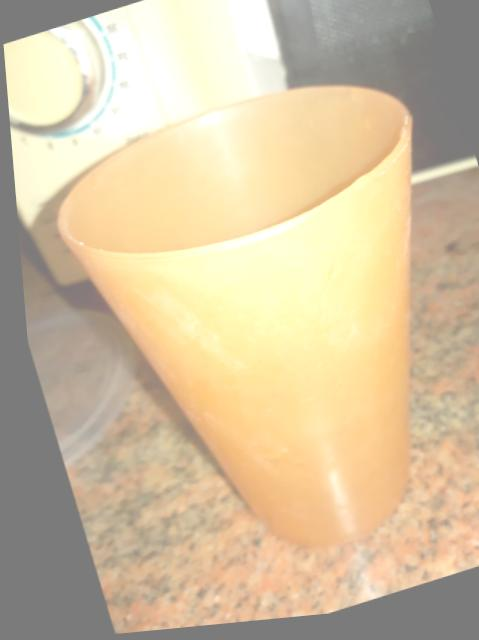Cup: (57, 87, 410, 547)
